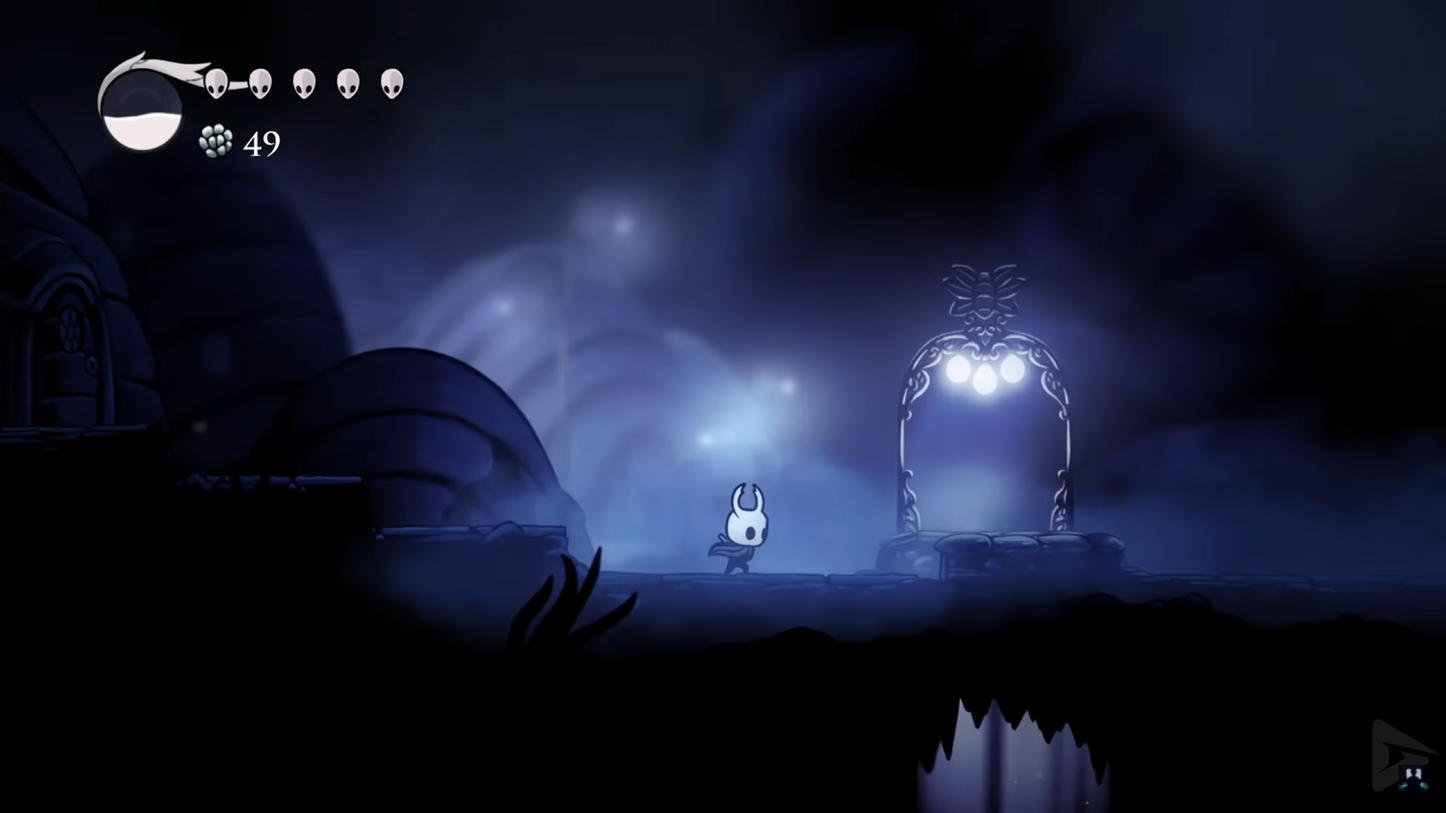HK: (709, 482, 773, 574)
